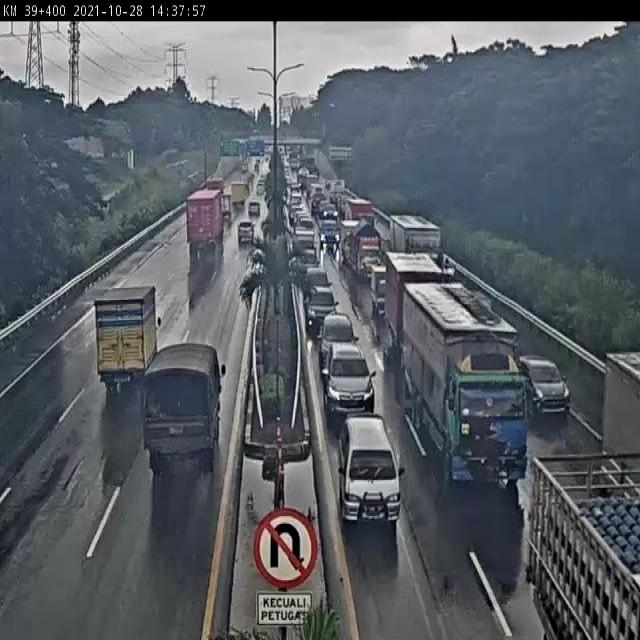Car: (322, 342, 376, 423), (517, 354, 571, 419), (318, 311, 359, 375), (305, 278, 337, 336), (305, 266, 332, 298), (318, 220, 340, 249), (238, 222, 254, 244), (322, 204, 338, 217), (248, 202, 260, 218)
Truck: (401, 276, 528, 483), (524, 449, 640, 640), (142, 343, 228, 476), (92, 286, 162, 393), (384, 249, 447, 361), (603, 348, 640, 491), (387, 212, 448, 270), (184, 186, 224, 256), (351, 220, 381, 282), (369, 265, 388, 316), (341, 218, 362, 264), (348, 198, 378, 225), (230, 178, 247, 209), (206, 174, 227, 193), (220, 193, 232, 219)
Van: (336, 411, 406, 525)
